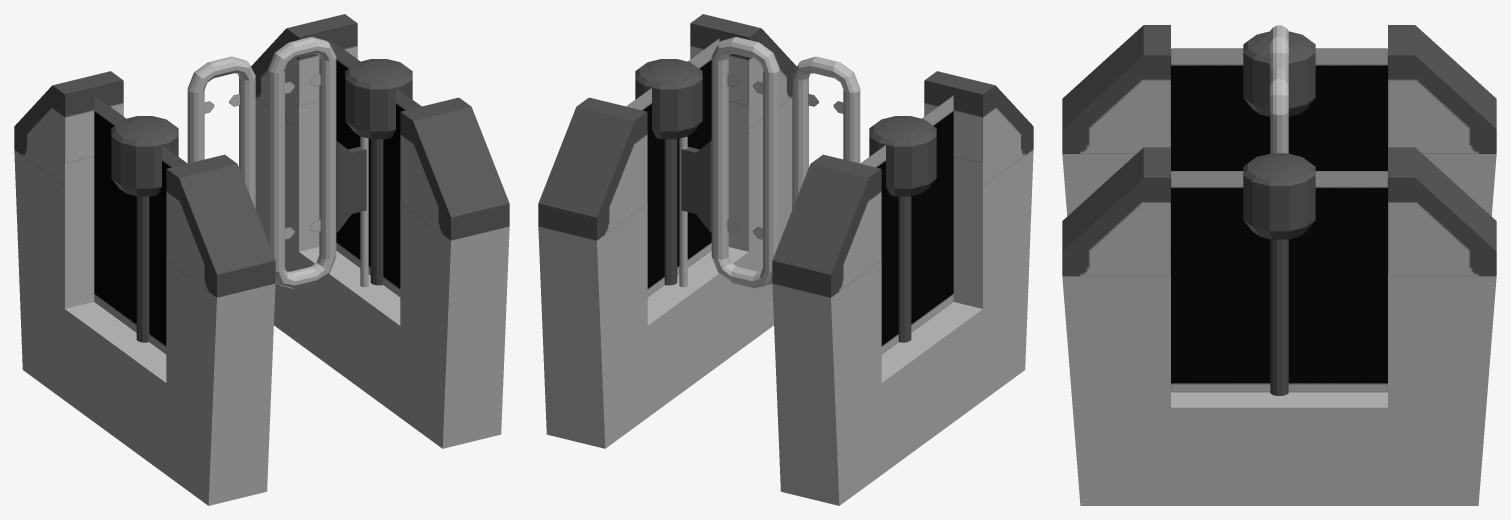
The model's file is nyc_subway_fare_gate_3_twoway_closed.obj.
The picture shows the model from 3 angles, left to right: view 1: azimuth 30°, elevation 25°; view 2: azimuth 150°, elevation 25°; view 3: azimuth 270°, elevation 25°; orthographic projection. The views are drawn at different scales.
Visible parts, largest first — view 1: left, right, doorRight, doorLeft; view 2: left, right, doorRight, doorLeft; view 3: right, left, doorRight, doorLeft.
Boxes of the visible parts, x1=… form: left: x1=14, y1=71, x2=275, y2=505; right: x1=251, y1=14, x2=509, y2=448; doorRight: x1=268, y1=37, x2=366, y2=288; doorLeft: x1=187, y1=56, x2=255, y2=208; left: x1=772, y1=71, x2=1033, y2=505; right: x1=538, y1=14, x2=796, y2=448; doorRight: x1=681, y1=37, x2=779, y2=288; doorLeft: x1=792, y1=56, x2=860, y2=208; right: x1=1062, y1=147, x2=1496, y2=505; left: x1=1062, y1=25, x2=1496, y2=215; doorRight: x1=1270, y1=67, x2=1288, y2=153; doorLeft: x1=1270, y1=25, x2=1288, y2=71.
Size of the model in its own units: 1.25 by 1.44 by 1.5.
1 material, 1 textured.
